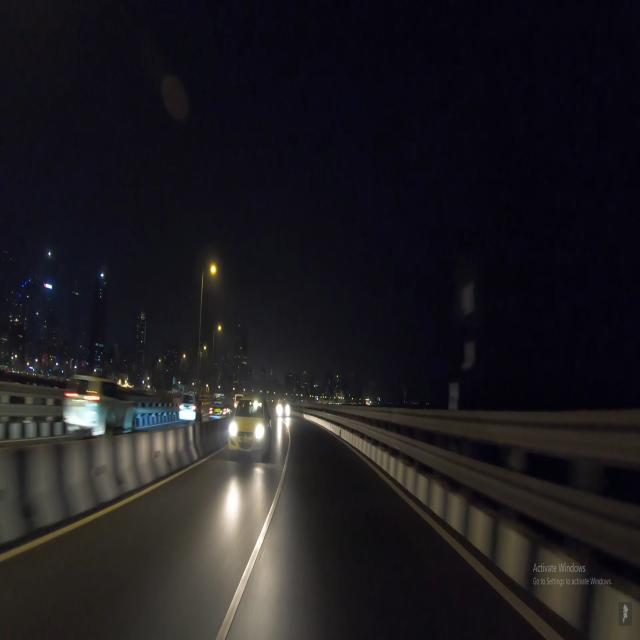headlights: (225, 414, 271, 454)
